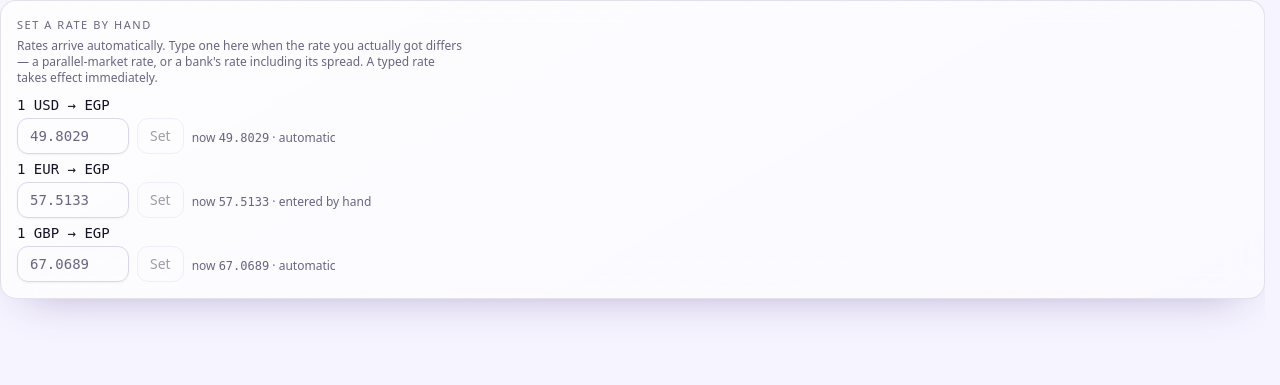
when the server refuses › says so in place
This screenshot has width=1280, height=385.
Type "0" into the field labelled "1 USD → EGP" at x=73, y=136, box [17, 118, 129, 154]
Then press Enter
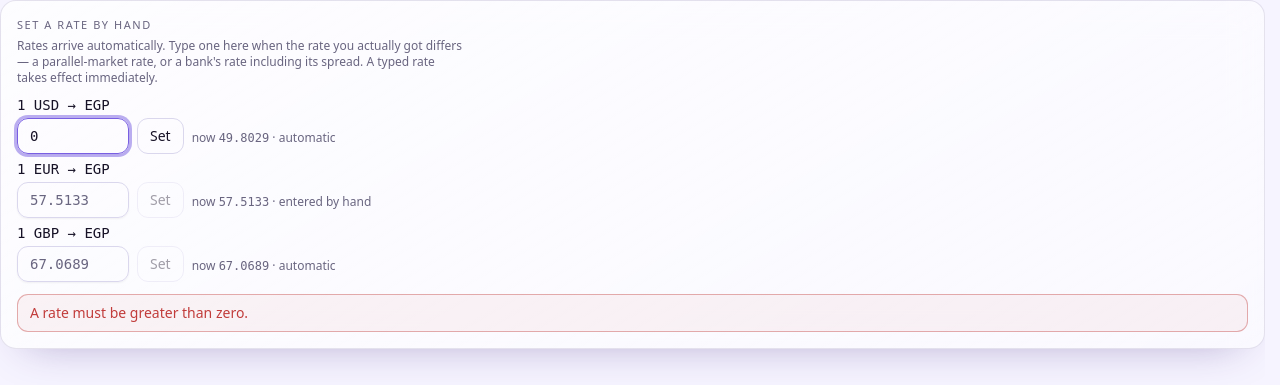
Expected: the text "A rate must be greater than zero." is shown, [17, 294, 1248, 332]
